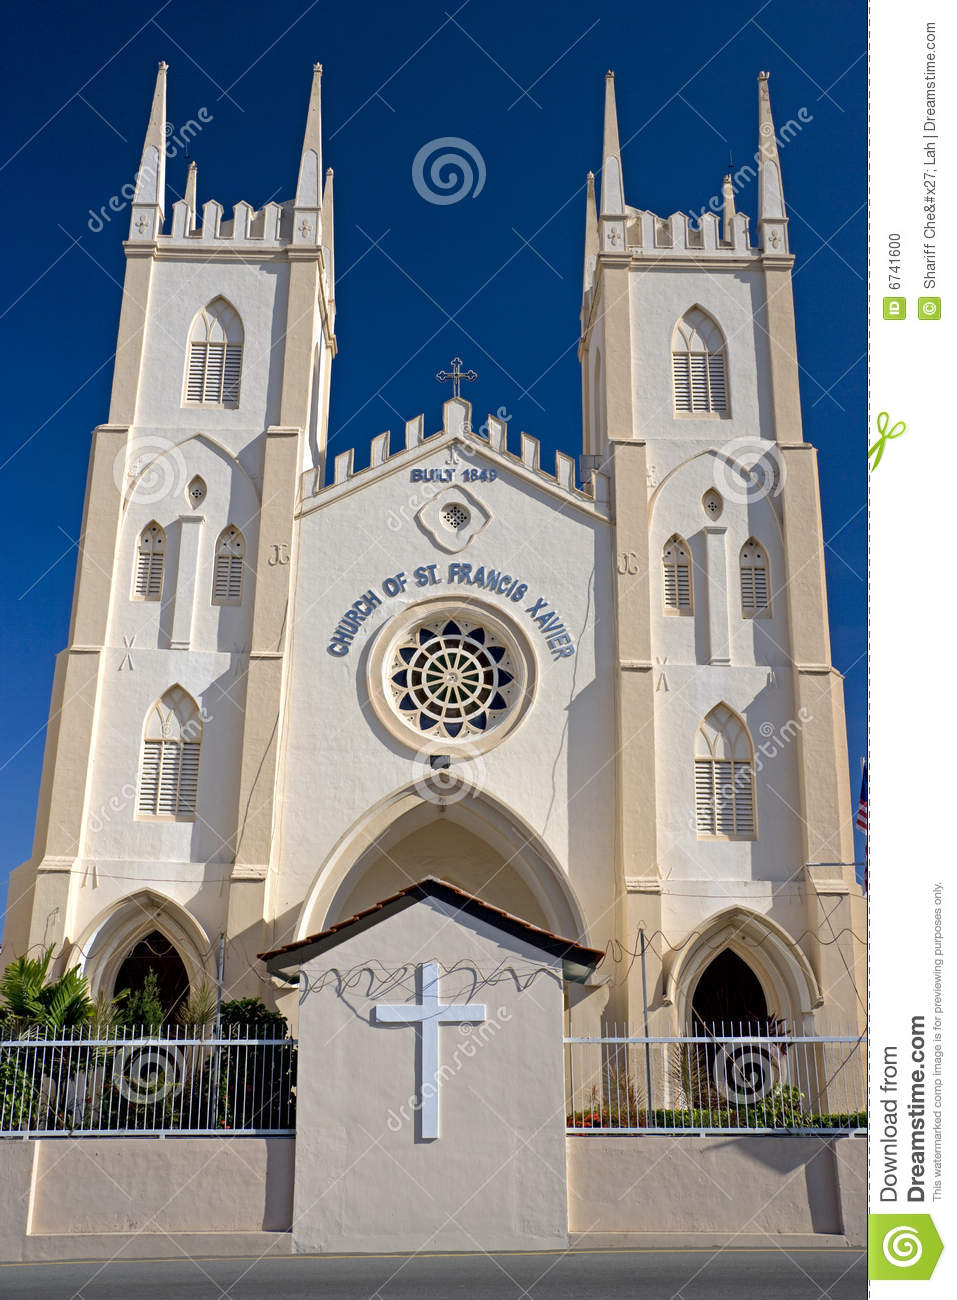Church: (13, 41, 857, 1172)
